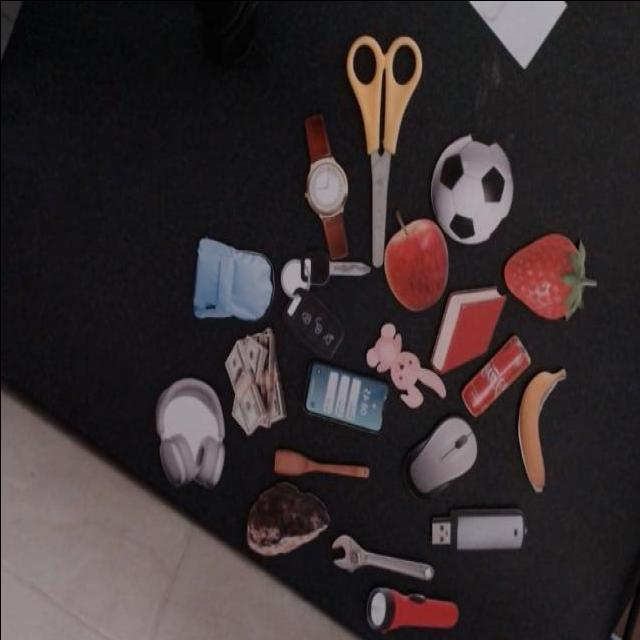Other Objects: (345, 35, 421, 268), (262, 219, 369, 364), (393, 405, 484, 507), (430, 134, 511, 242), (153, 376, 224, 491), (327, 530, 433, 600), (364, 323, 445, 409), (382, 209, 448, 312), (223, 327, 285, 436), (244, 481, 329, 557), (193, 238, 271, 320), (303, 114, 347, 259), (301, 360, 387, 433), (517, 367, 564, 492), (459, 335, 530, 417), (365, 587, 456, 631), (430, 507, 523, 548), (273, 449, 367, 477)
